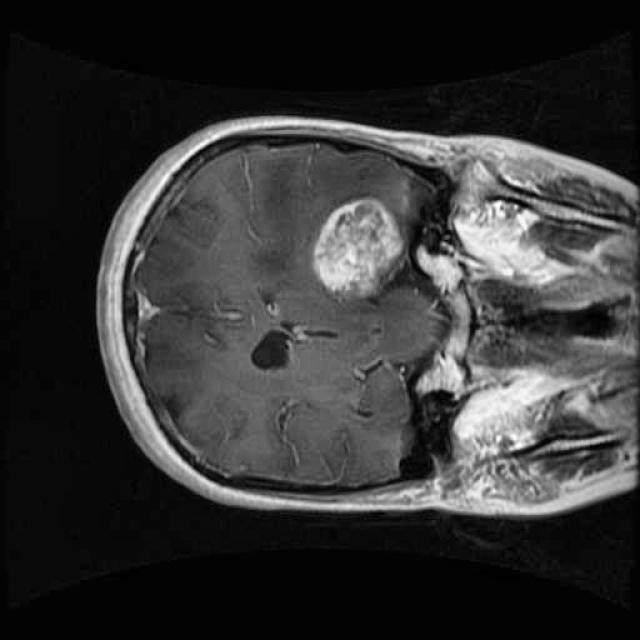Non-Tumor: (305, 180, 414, 312)
